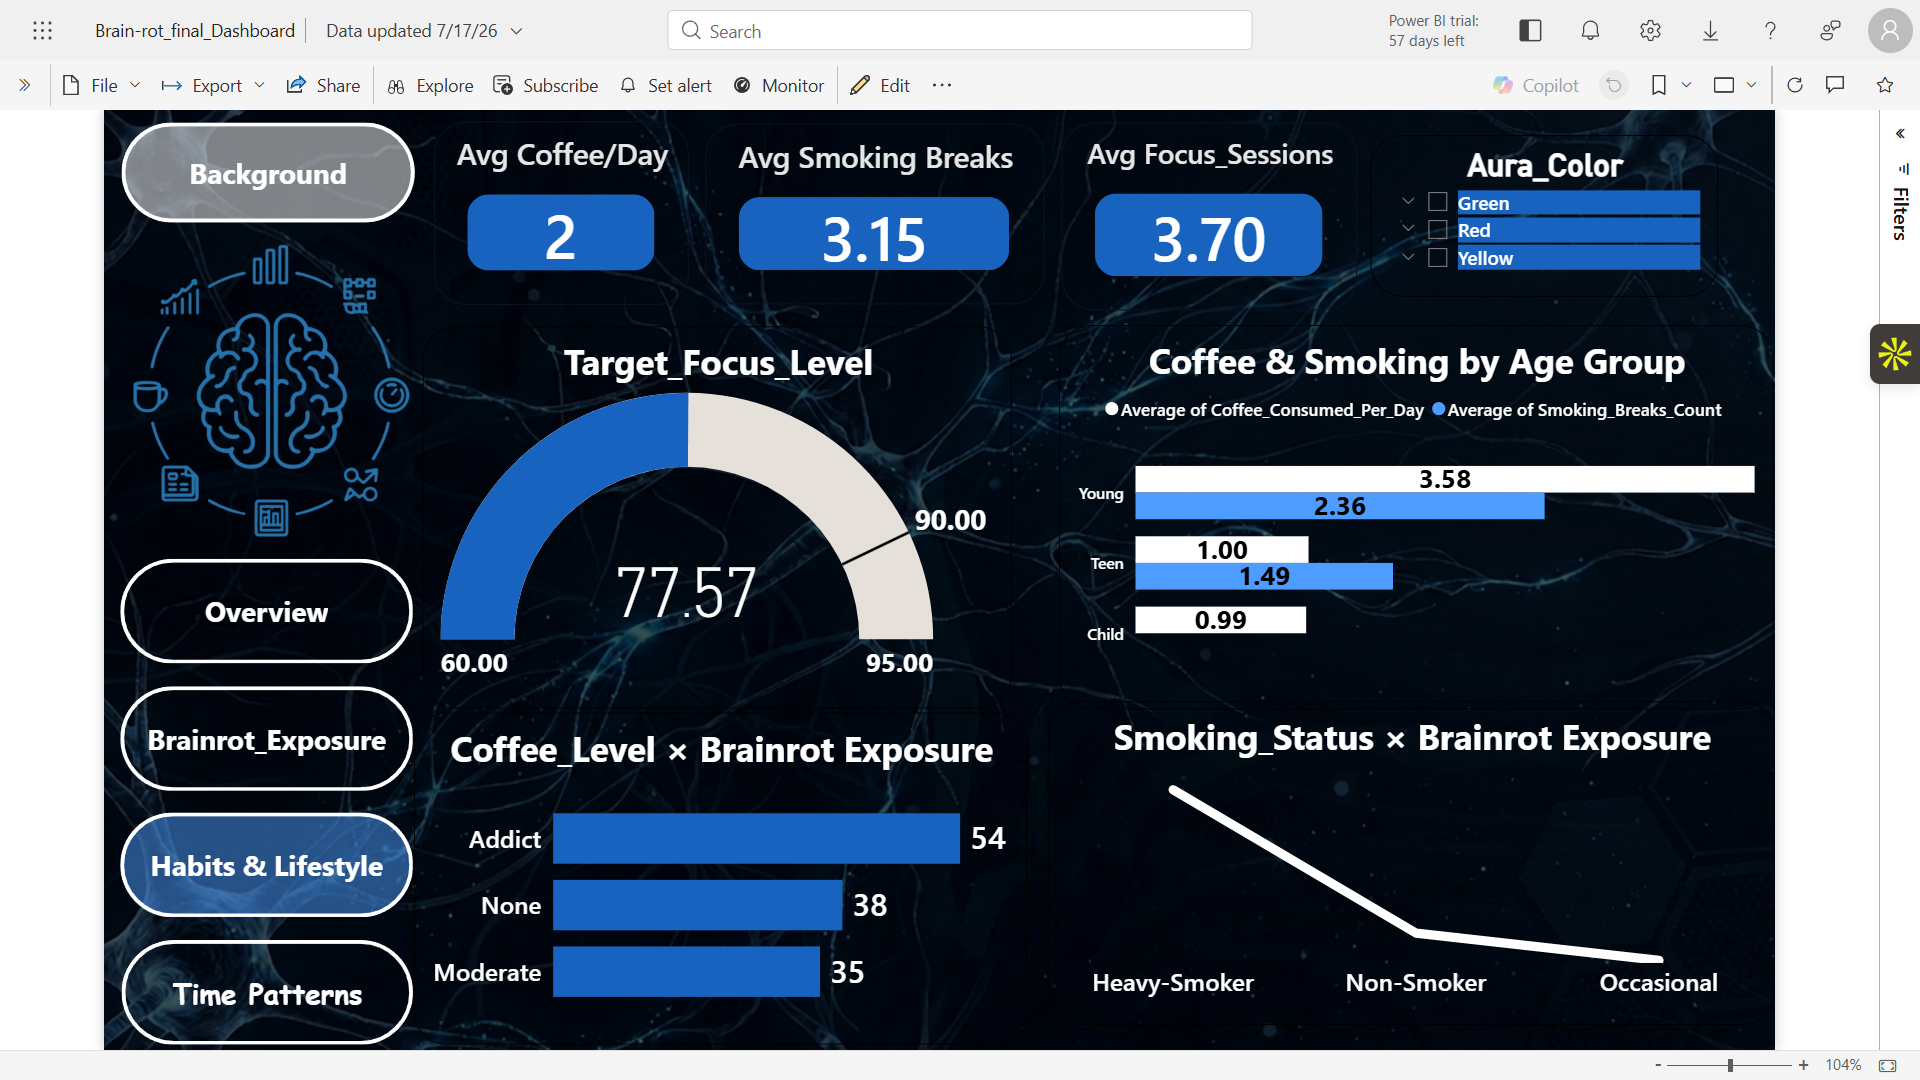

The page's visual inventory and layout, read from the dashboard file:
{"tool":"powerbi","page":{"name":"Habits & Lifestyle","canvas":[1280,720],"ordinal":3},"visuals":[{"type":"group","id":"g1","title":"Habits & LStyle","box":[12.3,8.6,1265.9,709.2],"z":0},{"type":"cardVisual","title":"Avg Coffee/Day","fields":{"Data":["Avg(Fact_User_Activity.Coffee_Consumed_Per_Day)"]},"box":[252.7,8.6,195.1,140.7],"z":0,"group":"g5"},{"type":"gauge","title":"Target_Focus_Level","fields":{"Y":["Avg(Dim_Users.Base_Focus_Level)"]},"box":[244.2,165.5,451.5,292.8],"z":0,"group":"g1"},{"type":"group","id":"g2","title":"Constants","box":[12.3,344.1,224.4,373.7],"z":0,"group":"g4"},{"type":"group","id":"g3","title":"Constant","box":[12.3,344.1,224.4,373.7],"z":0,"group":"g2"},{"type":"actionButton","title":"Geographic Intel","box":[12.3,344.1,224.4,80.3],"z":0,"group":"g3"},{"type":"group","id":"g4","title":"Group 1","box":[12.3,9.8,226,708],"z":1000,"group":"g1"},{"type":"actionButton","title":"Backround","box":[13.6,9.8,224.7,76.6],"z":1000,"group":"g4"},{"type":"cardVisual","title":"Avg Smoking Breaks","fields":{"Data":["Sum(Fact_User_Activity.Smoking_Breaks_Count)"]},"box":[460.7,10.9,259.8,138.5],"z":1000,"group":"g5"},{"type":"image","box":[16.7,96.8,223.7,237.1],"z":1000},{"type":"actionButton","title":"Time Patterns","box":[12.3,441.5,224.4,80.3],"z":1000,"group":"g3"},{"type":"group","id":"g5","title":"KPIs_Overview","box":[252.7,8.6,706.9,144.8],"z":2000,"group":"g1"},{"type":"cardVisual","title":"Avg Focus_Sessions","fields":{"Data":["Avg(Fact_User_Activity.Focus_Sessions_Count)"]},"box":[733.3,9.3,226.3,144.1],"z":2000,"group":"g5"},{"type":"lineChart","title":" Smoking_Status × Brainrot Exposure","fields":{"Category":["Dim_Habits.Smoking_Status"],"Y":["Avg(Fact_User_Activity.Brainrot_Exposure_Score)"]},"box":[722.7,452.8,557.1,247.9],"z":2000},{"type":"actionButton","title":"Brainrot_Exposure","box":[13.3,636.3,223.3,80.3],"z":2000,"group":"g3"},{"type":"barChart","title":"Coffee_Level × Brainrot Exposure","fields":{"Category":["Dim_Habits.Coffee_Level"],"Y":["Avg(Fact_User_Activity.Brainrot_Exposure_Score)"]},"box":[237,461.1,470,254.8],"z":3000,"group":"g1"},{"type":"actionButton","title":"Overview","box":[12.3,538.9,224.4,80.3],"z":3000,"group":"g3"},{"type":"clusteredBarChart","title":"Coffee & Smoking by Age Group","fields":{"Y":["Avg(Fact_User_Activity.Coffee_Consumed_Per_Day)","Avg(Fact_User_Activity.Smoking_Breaks_Count)"],"Category":["Dim_Users.Age_Group"]},"box":[731,164.9,547.2,294.5],"z":5000,"group":"g1"},{"type":"slicer","title":"Aura_Color","fields":{"Values":["Dim_MentalState.Aura_Color_Code","Dim_MentalState.Attention_Span_Level"]},"box":[970,18.8,266.2,123.8],"z":6000}]}

Visuals, with their boxes on the page's 1280x720 design canvas (x1, y1, x2, y2). These are canvas units, not pixel positions in the 1920x1080 screenshot, which may show the page scaled, cropped or inside an application window:
"Habits & LStyle" group: crop(12, 9, 1278, 718)
"Avg Coffee/Day" cardVisual: crop(253, 9, 448, 149)
"Target_Focus_Level" gauge: crop(244, 166, 696, 458)
"Constants" group: crop(12, 344, 237, 718)
"Constant" group: crop(12, 344, 237, 718)
"Geographic Intel" actionButton: crop(12, 344, 237, 424)
"Group 1" group: crop(12, 10, 238, 718)
"Backround" actionButton: crop(14, 10, 238, 86)
"Avg Smoking Breaks" cardVisual: crop(461, 11, 720, 149)
image: crop(17, 97, 240, 334)
"Time Patterns" actionButton: crop(12, 442, 237, 522)
"KPIs_Overview" group: crop(253, 9, 960, 153)
"Avg Focus_Sessions" cardVisual: crop(733, 9, 960, 153)
" Smoking_Status × Brainrot Exposure" lineChart: crop(723, 453, 1280, 701)
"Brainrot_Exposure" actionButton: crop(13, 636, 237, 717)
"Coffee_Level × Brainrot Exposure" barChart: crop(237, 461, 707, 716)
"Overview" actionButton: crop(12, 539, 237, 619)
"Coffee & Smoking by Age Group" clusteredBarChart: crop(731, 165, 1278, 459)
"Aura_Color" slicer: crop(970, 19, 1236, 143)
